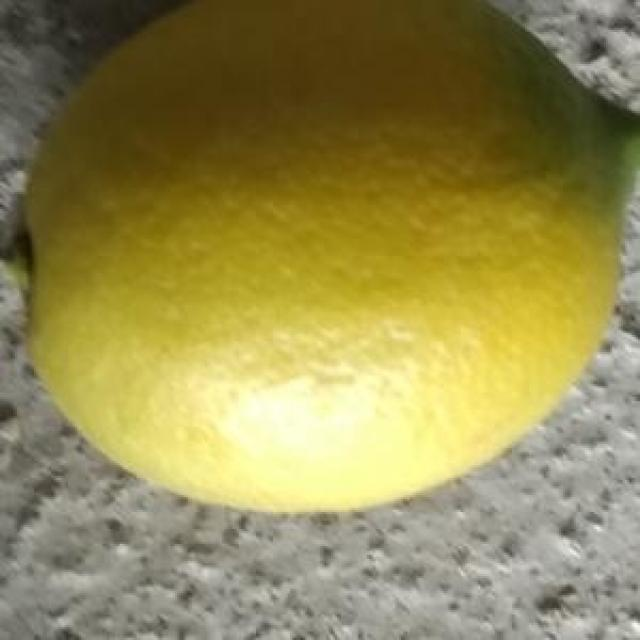lemon: (3, 2, 640, 512)
